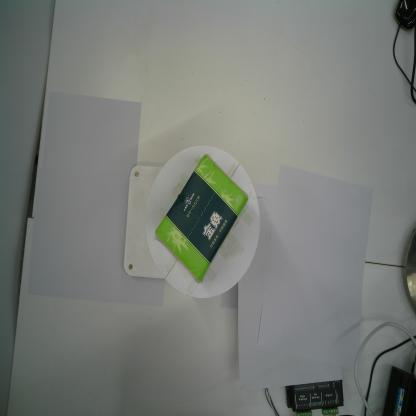Tissue: (151, 153, 250, 285)
